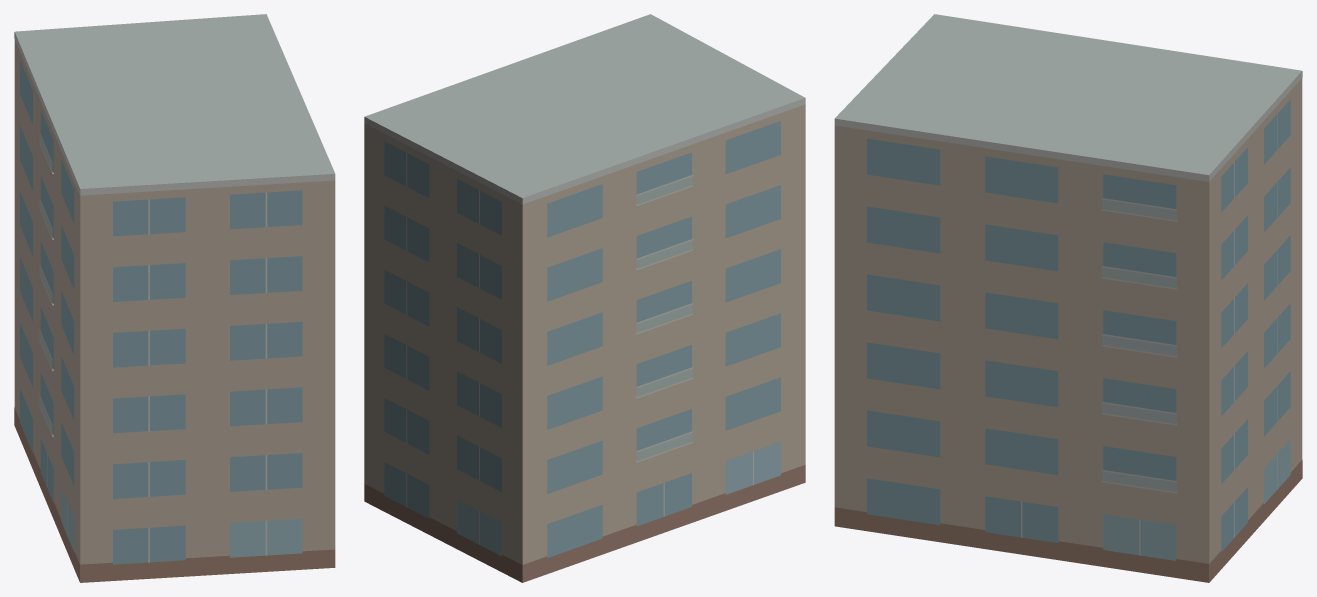
File: survey-upis-32851040.glb
3 renders of one model, left to right at view 1: azimuth 30°, elevation 25°; view 2: azimuth 150°, elevation 25°; view 3: azimuth 270°, elevation 25°, orthographic. The views are drawn at different scales.
Visible parts, largest first — view 1: survey-upis-32851040.tmp; view 2: survey-upis-32851040.tmp; view 3: survey-upis-32851040.tmp.
Part boxes in pixels (x1,y1,x2,y2): survey-upis-32851040.tmp: (14,14,335,582); survey-upis-32851040.tmp: (364,14,805,582); survey-upis-32851040.tmp: (834,14,1302,582).
Bounding box in the file's own units: 12.35 × 14.55 × 15.14.
